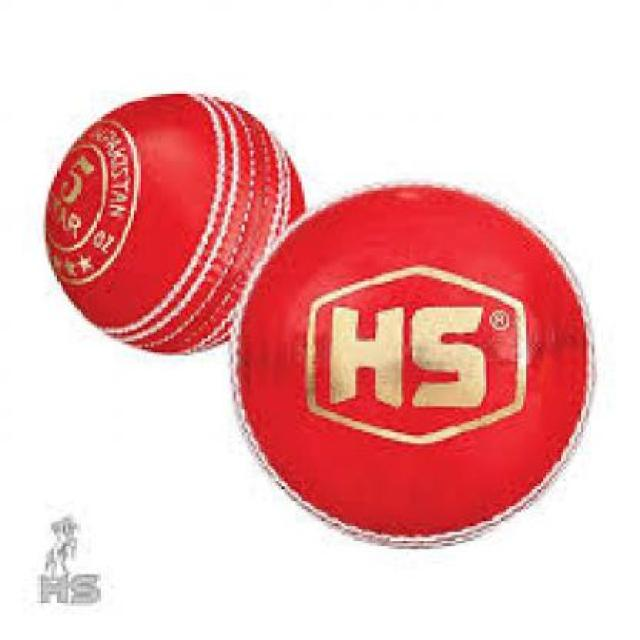ball: (18, 65, 314, 359)
